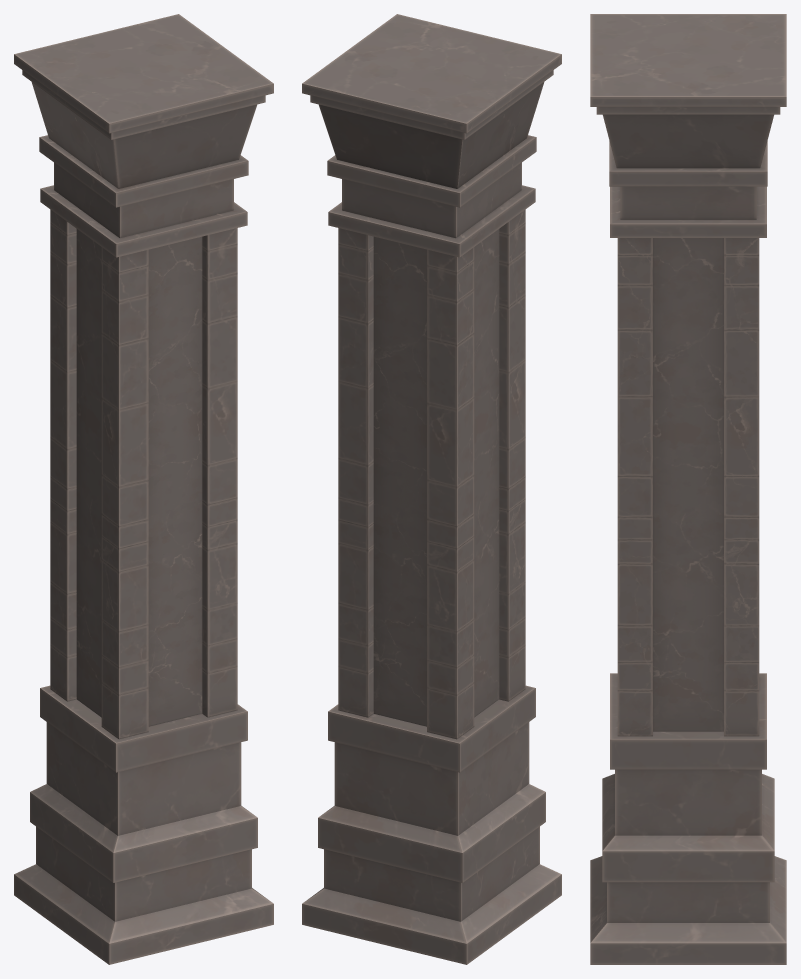
File: Pillar_A.fbx
The picture shows the model from 3 angles, left to right: view 1: azimuth 30°, elevation 25°; view 2: azimuth 150°, elevation 25°; view 3: azimuth 270°, elevation 25°; orthographic projection. The views are drawn at different scales.
Parts seen in each view (by area): view 1: Pillar_A; view 2: Pillar_A; view 3: Pillar_A.
Boxes of the visible parts, left/top/right/bottom form: Pillar_A: left=14, top=14, right=273, bottom=964; Pillar_A: left=302, top=14, right=561, bottom=964; Pillar_A: left=590, top=14, right=786, bottom=964.
Size of the model in its own units: 82 by 400 by 82.
